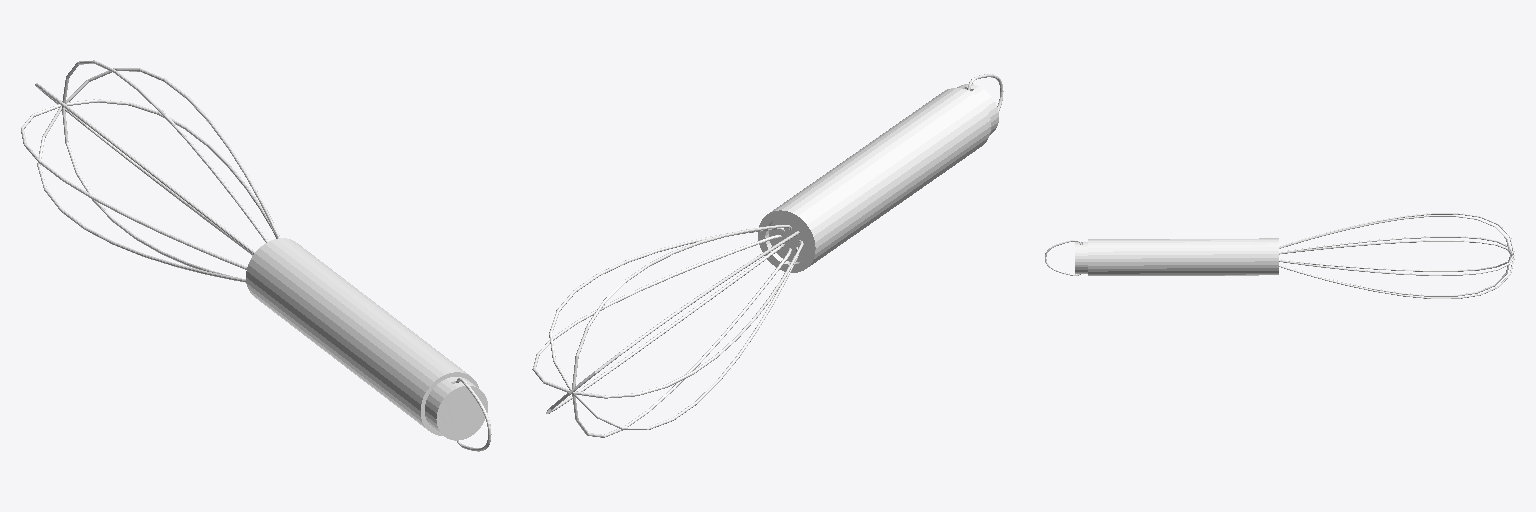
The robot description file, URDF, robot "whisk":
<?xml version="1.0" ?>
<robot name="whisk">
  <link name="base">
    <inertial>
        <origin rpy="0 0 0" xyz="0 0 0"/>
        <mass value="1.0"/>
        <inertia ixx="1" ixy="0" ixz="0" iyy="1" iyz="0" izz="1"/>
    </inertial>
   <visual>
     <origin rpy="0 0 0" xyz="0 0 0"/>
     <geometry>
       <mesh filename="whisk.obj" scale="1 1 1"/>
     </geometry>
      <material name="white">
       <color rgba="1 1 1 1"/>
     </material>
   </visual>
   <collision>
     <origin rpy="0 0 0" xyz="0 0 0"/>
     <geometry>
       <mesh filename="whisk_vhacd.obj" scale="1 1 1"/>
     </geometry>
   </collision>
  </link>
  <link name="grasp">
    <inertial>
      <origin rpy="0 0 0" xyz="0 0 0"/>
       <mass value="0.0"/>
       <inertia ixx="1" ixy="0" ixz="0" iyy="1" iyz="0" izz="1"/>
    </inertial>
  </link>
  <joint name="base__grasp" type="fixed">
    <origin xyz="0.0 -0.04 -0.01" rpy="0.0 0.0 0.0"/>
    <parent link="base"/>
    <child link="grasp"/>
  </joint>
</robot>

--- What the picture shows (computed from the rendered views, not written in the file) ---
3 views of the same robot in one strip: view 1: azimuth 30°, elevation 25°; view 2: azimuth 150°, elevation 25°; view 3: azimuth 270°, elevation 25° (orthographic).
Model whisk with 2 links and 1 joints (1 fixed), rooted at base, posed every joint at zero.
Links seen in each view (by area): view 1: base; view 2: base; view 3: base.
Link boxes in pixels (box(x1,y1,x2,y2)): base: box(21, 60, 491, 451); base: box(532, 74, 1003, 437); base: box(1045, 213, 1514, 298).
Size in the robot's own frame: 0.0494 by 0.2543 by 0.0489 metres.
1 mesh visuals loaded from 1 distinct referenced files (1 OBJ).